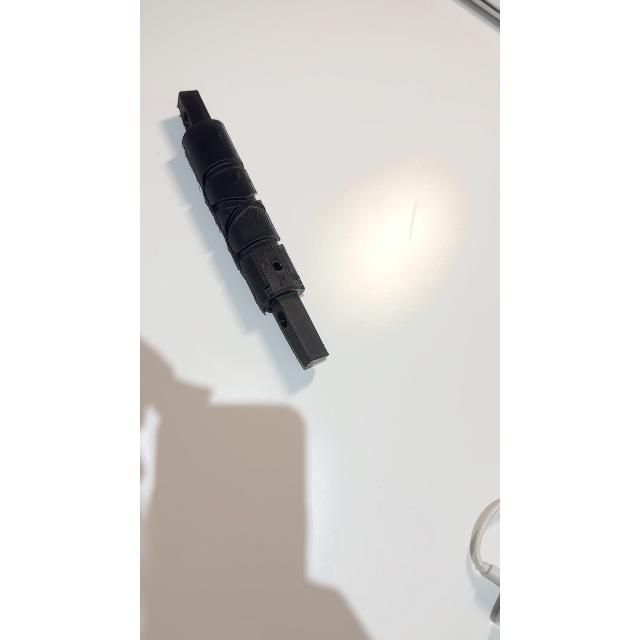Pieza_1: (168, 80, 338, 388)
